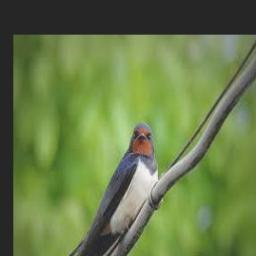Swallow: (39, 121, 159, 256)
